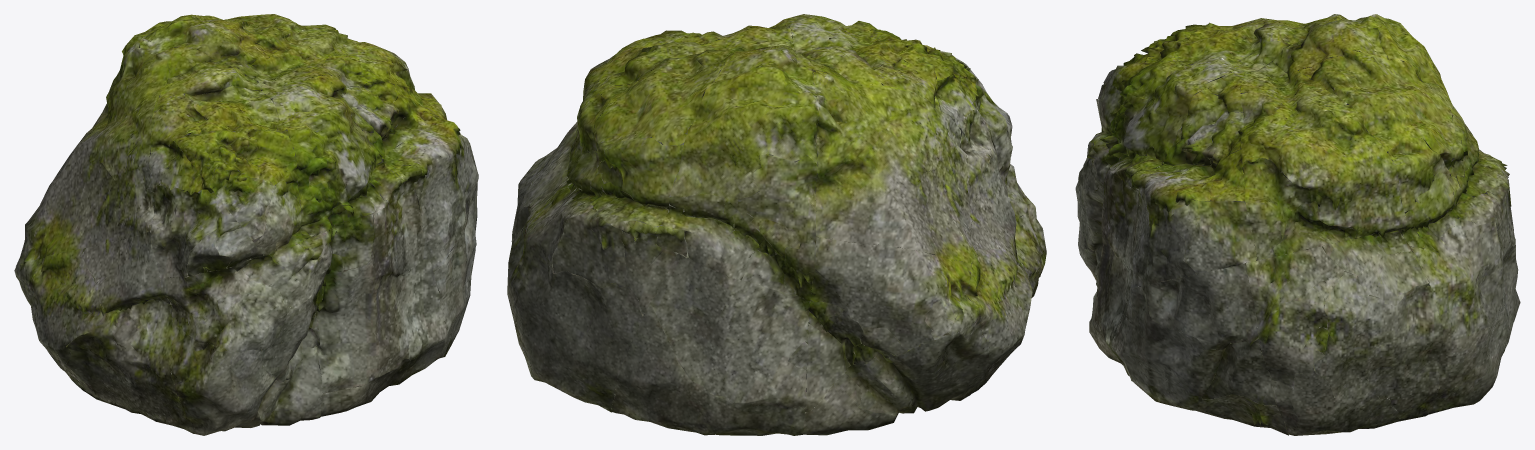
Rendered from rock_boulder.glb.
3 renders of one model, left to right at view 1: azimuth 30°, elevation 25°; view 2: azimuth 150°, elevation 25°; view 3: azimuth 270°, elevation 25°, orthographic. The views are drawn at different scales.
Parts seen in each view (by area): view 1: rock_boulder; view 2: rock_boulder; view 3: rock_boulder.
Part boxes in pixels (box(x1,y1,x2,y2)): rock_boulder: box(14, 14, 478, 435); rock_boulder: box(507, 14, 1046, 435); rock_boulder: box(1075, 14, 1520, 435).
Size of the model in its own units: 2.22 by 1.5 by 1.94.
Materials: 1 (1 with a texture image).
